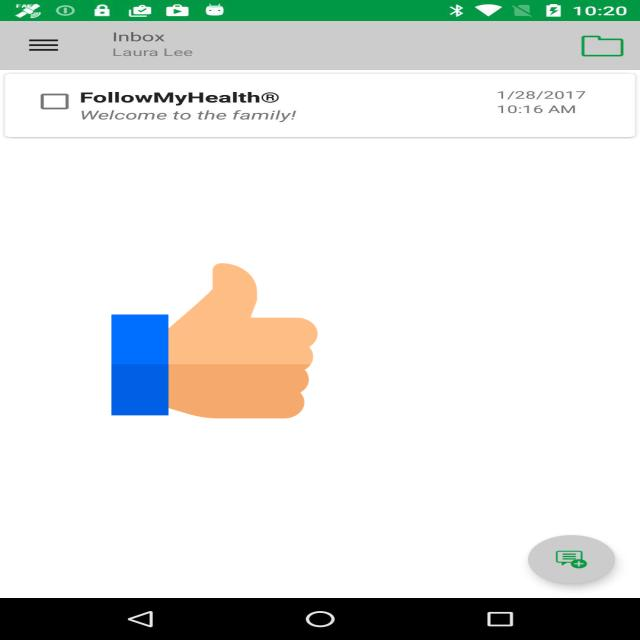privacy zuckering: (111, 260, 318, 422)
